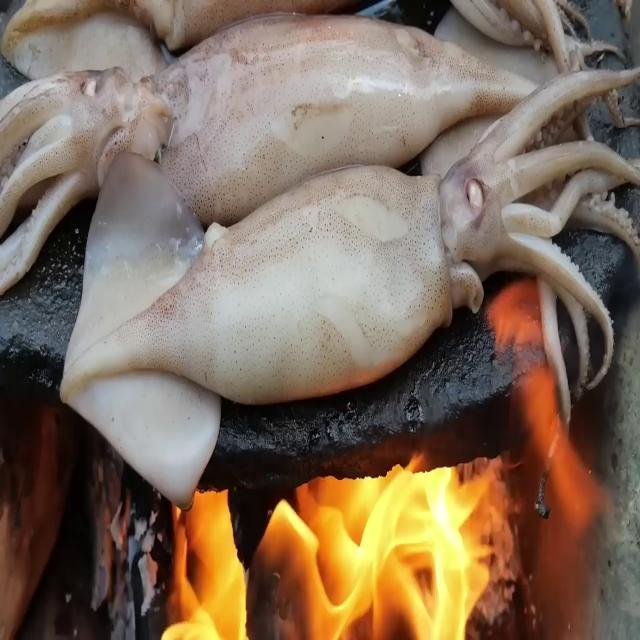SQUID: (40, 60, 640, 512), (5, 2, 637, 213)
